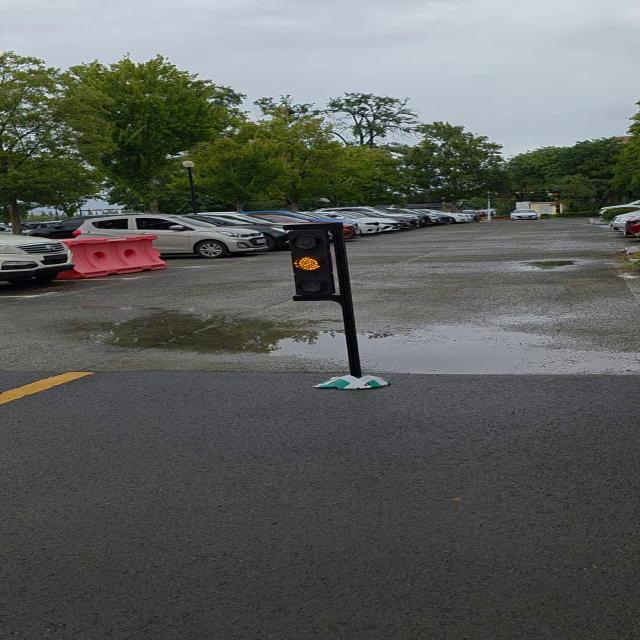yellow: (283, 225, 342, 304)
